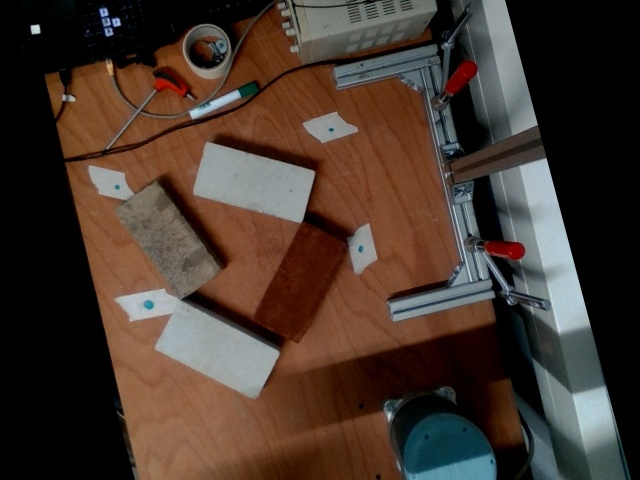brick: (109, 177, 222, 302), (152, 300, 280, 401), (249, 219, 349, 345), (190, 142, 316, 225)
